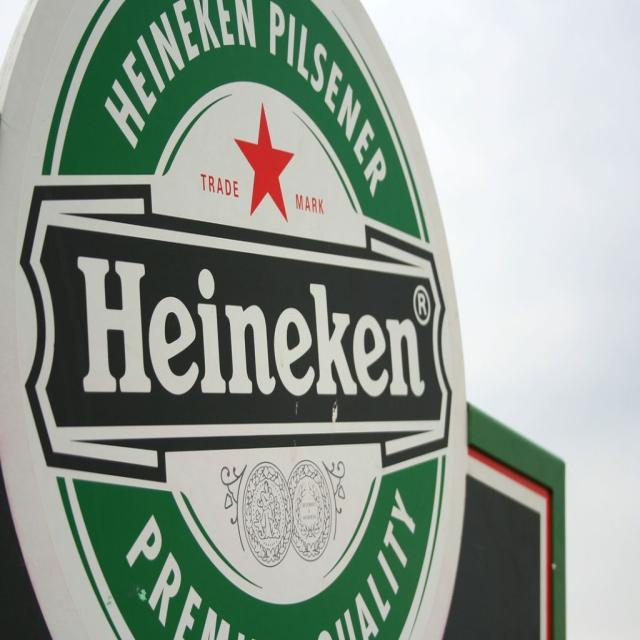heineken: (17, 2, 457, 640)
